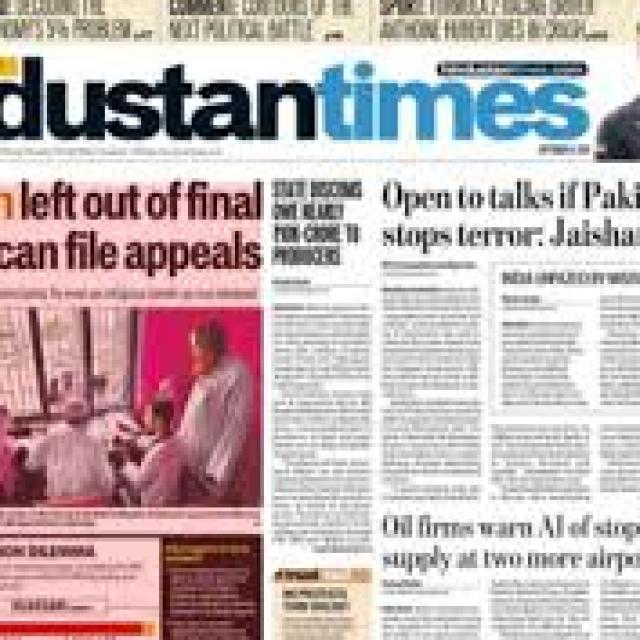organic: (10, 17, 584, 599)
